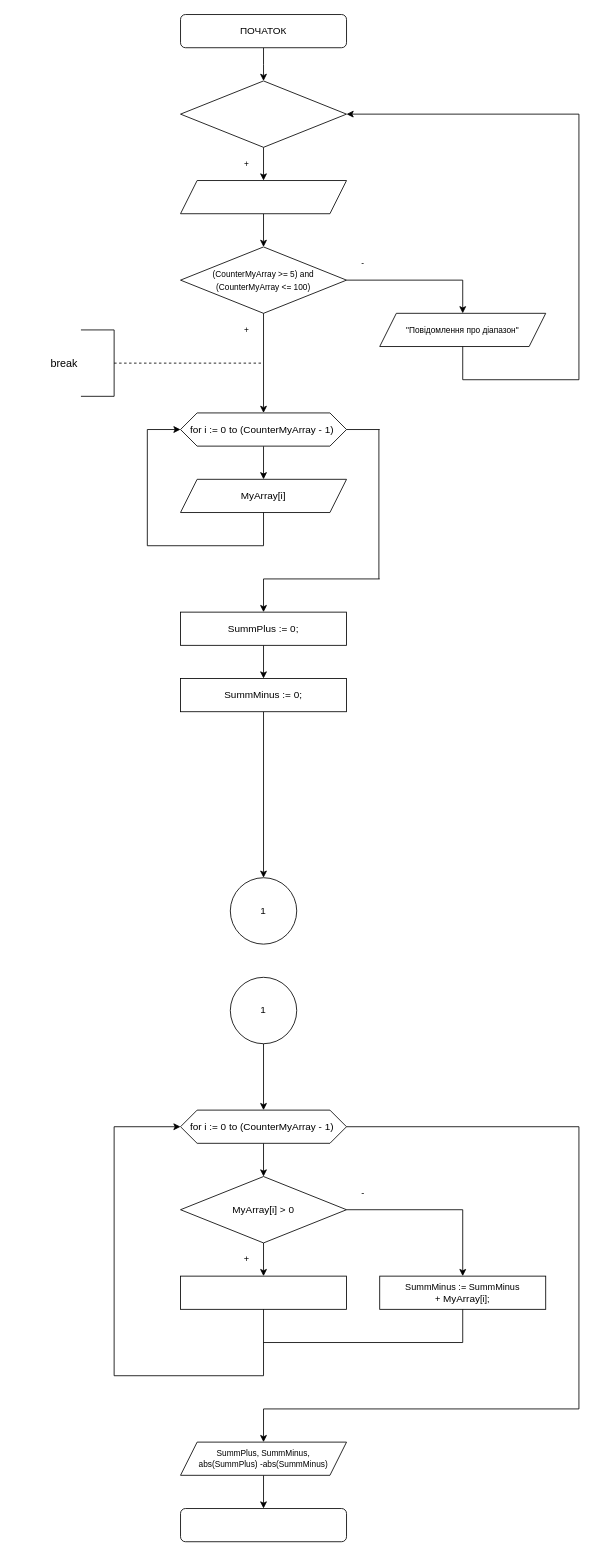
This 600x1556 diagram has some shape labels left out. Here are the shapes that lost their labels. From the top down, the box of each, then its label:
(180, 80, 347, 147): true
(180, 180, 347, 214): CounterMyArray
(180, 1275, 347, 1309): SummPlus := SummPlus + MyArray[i];
(180, 1508, 347, 1542): КІНЕЦЬ
